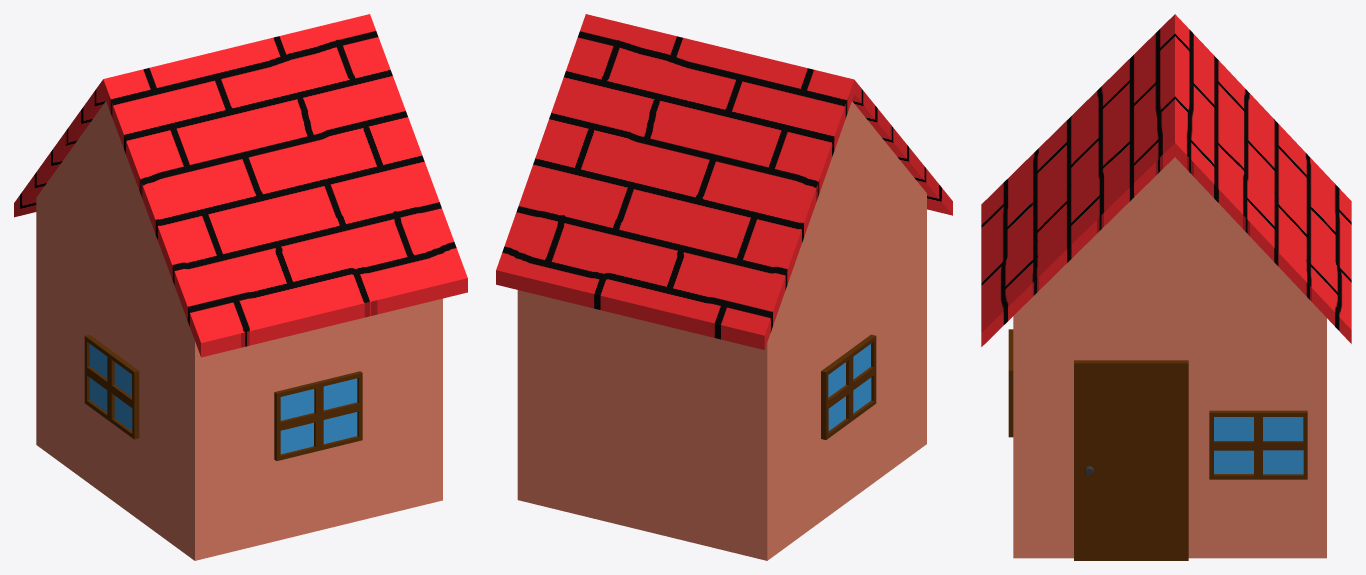
The model's file is House2.fbx.
3 renders of one model, left to right at view 1: azimuth 30°, elevation 25°; view 2: azimuth 150°, elevation 25°; view 3: azimuth 270°, elevation 25°, orthographic.
Parts seen in each view (by area): view 1: WAlls, Roof.001, WindowGlass.001, WindowPane.001, WindowPane.002, WindowGlass.002; view 2: WAlls, Roof.001, WindowPane.002, WindowGlass.002; view 3: WAlls, Roof.001, Door, WindowGlass, WindowPane, WindowPane.001.
Boxes of the visible parts, x1,y1,x2,y2 form: WAlls: [36, 101, 442, 560]; Roof.001: [14, 14, 467, 357]; WindowGlass.001: [280, 378, 357, 454]; WindowPane.001: [274, 371, 362, 460]; WindowPane.002: [84, 334, 139, 439]; WindowGlass.002: [89, 344, 132, 430]; WAlls: [517, 101, 926, 560]; Roof.001: [496, 14, 952, 349]; WindowPane.002: [821, 334, 876, 439]; WindowGlass.002: [828, 344, 871, 430]; WAlls: [1013, 157, 1326, 558]; Roof.001: [981, 14, 1351, 346]; Door: [1074, 360, 1188, 560]; WindowGlass: [1214, 417, 1303, 474]; WindowPane: [1209, 410, 1307, 479]; WindowPane.001: [1008, 329, 1013, 437].
Bounding box in the file's own units: 261 × 327 × 218.
